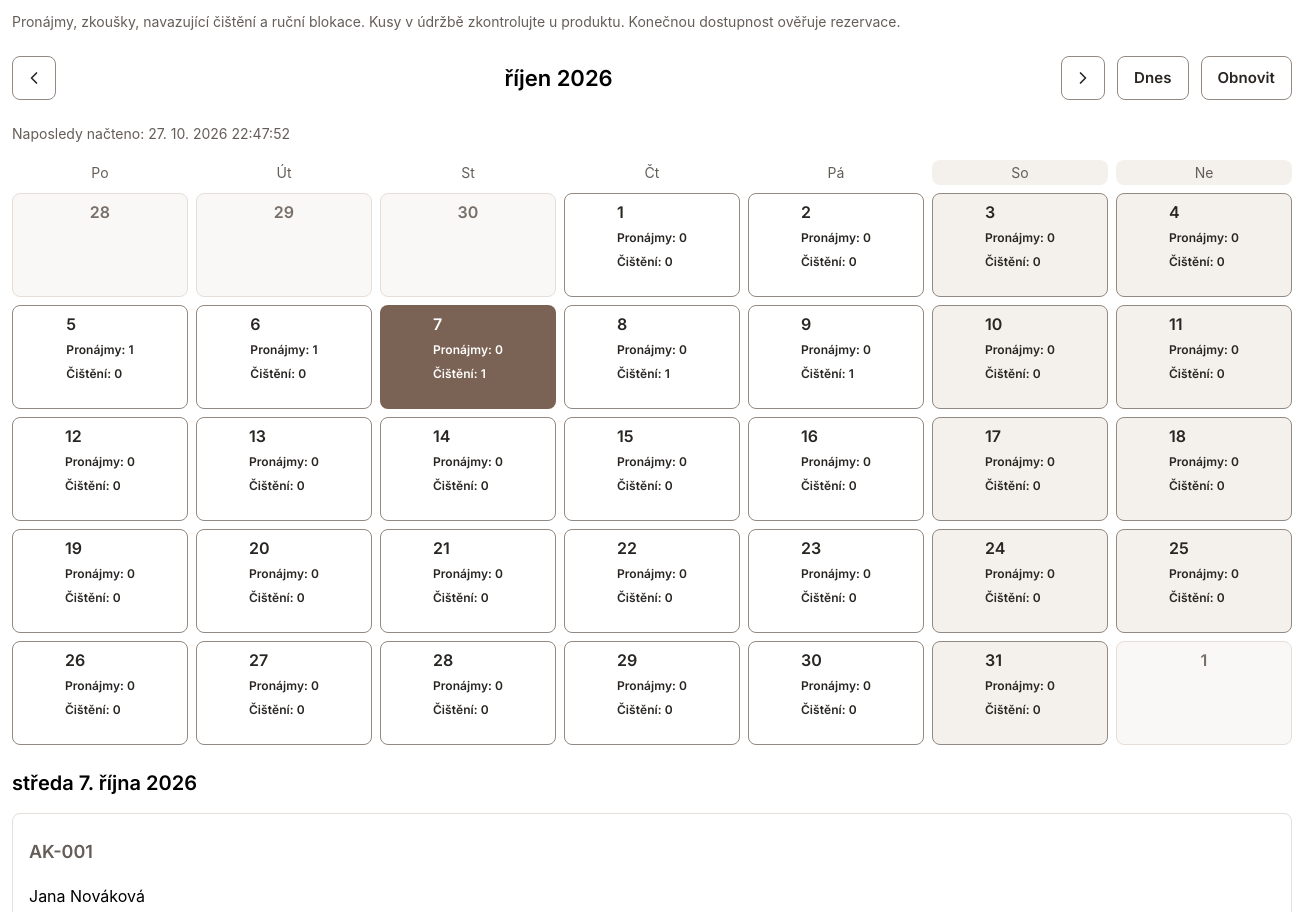
Test: failed reload removes old data and retry recovers without raw backend error text
Expected: the link "AK-001" is shown, [29,841,93,862]
Click the button "Obnovit": (1246, 78) [1200,56,1292,100]
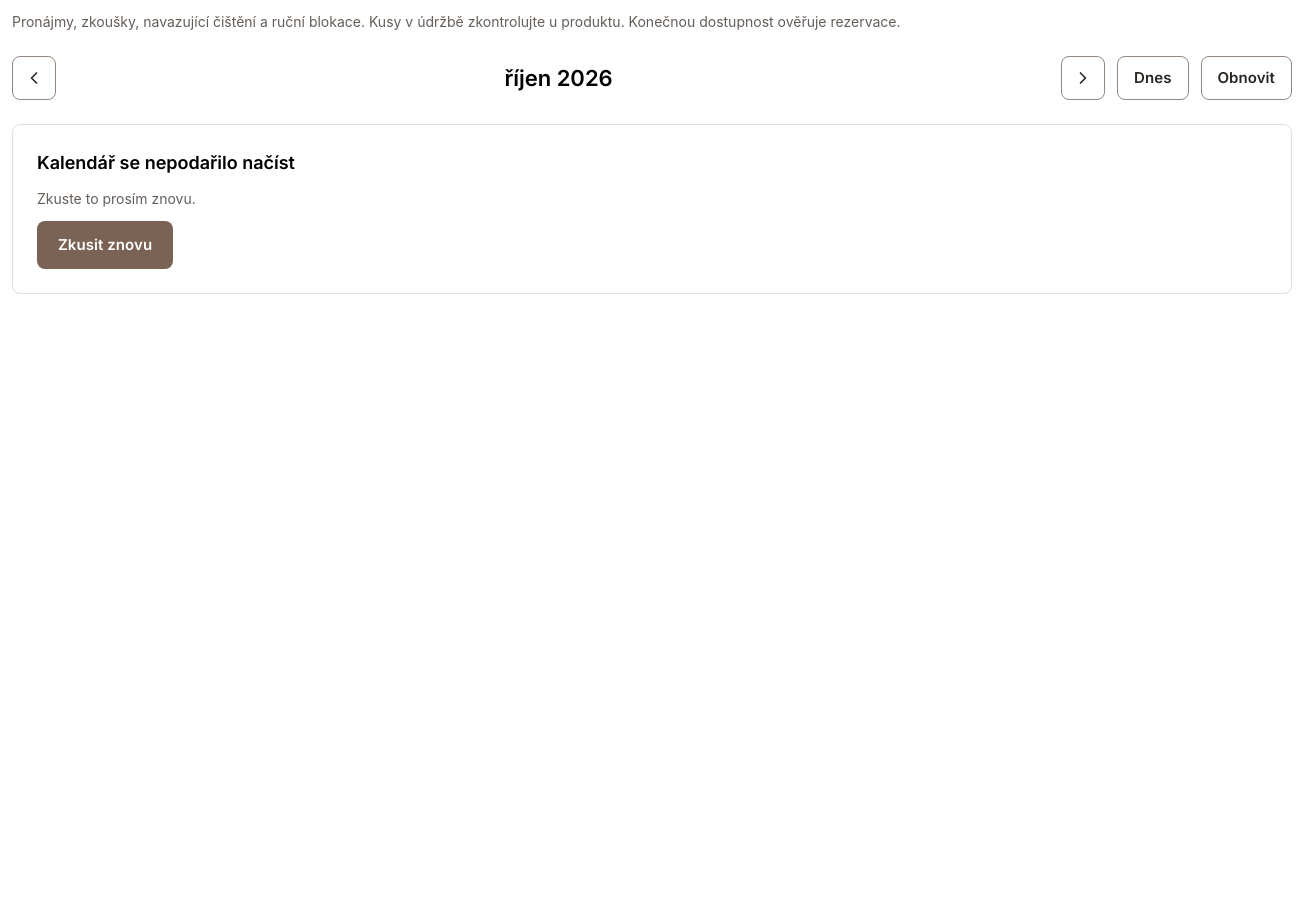
Now the message shows "Kalendář se nepodařilo načíst", box [37,152,295,173]
Now the link "AK-001" is gone
Click the button "Zkusit znovu": (105, 245) [37,221,173,269]
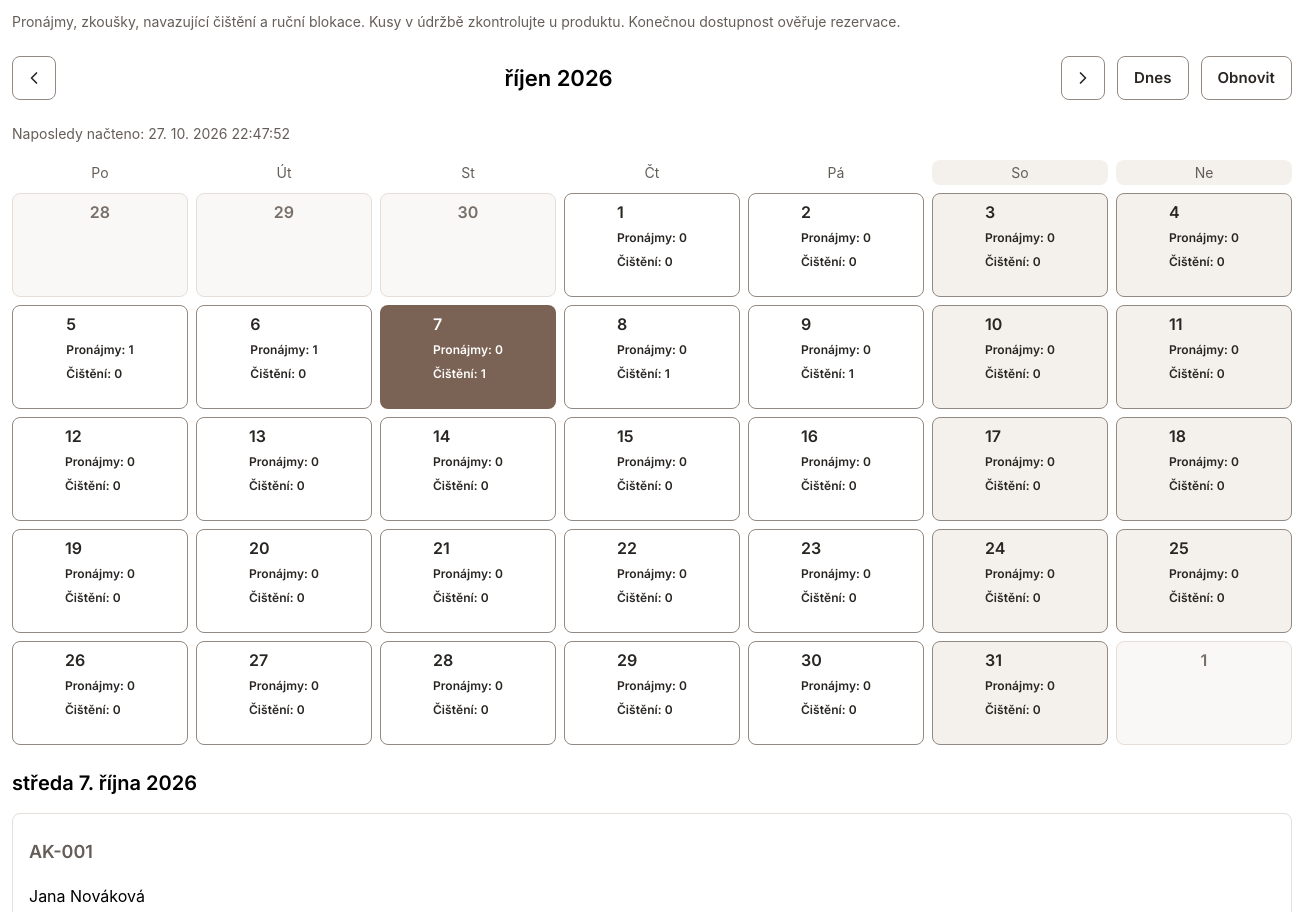
Now the link "AK-001" is shown, box [29,841,93,862]
